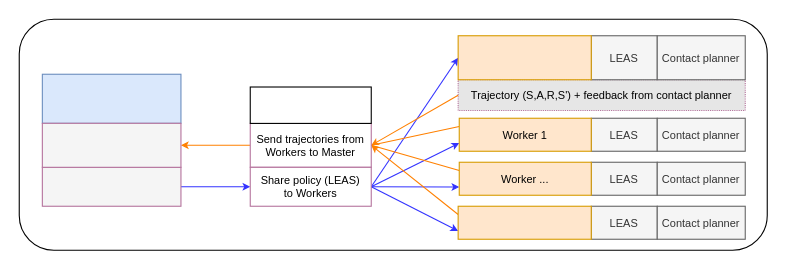
The diagram is 787 pixels wide and 270 high, and some of its shapes have lost their labels. Here are the shapes that lost their labels. From the top down, the centre of each, then its label:
At point (524, 57): "Worker 0".
At point (111, 98): "Master".
At point (310, 104): "Manager".
At point (111, 144): "Save all trajectories (S,A,R,S') + feedback".
At point (111, 186): "Update policy (LEAS)".
At point (524, 222): "Worker N".
